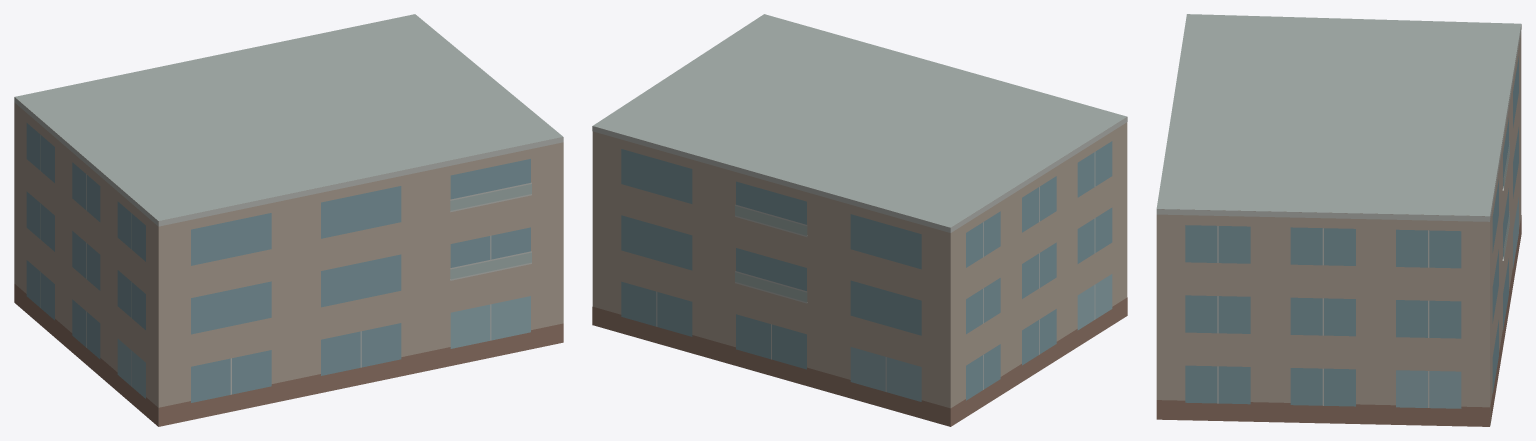
File: survey-upis-32591382.glb
3 renders of one model, left to right at view 1: azimuth 30°, elevation 25°; view 2: azimuth 150°, elevation 25°; view 3: azimuth 270°, elevation 25°, orthographic. The views are drawn at different scales.
Visible parts, largest first — view 1: survey-upis-32591382.tmp; view 2: survey-upis-32591382.tmp; view 3: survey-upis-32591382.tmp.
Boxes of the visible parts, left/top/right/bottom form: survey-upis-32591382.tmp: left=14, top=14, right=563, bottom=426; survey-upis-32591382.tmp: left=592, top=14, right=1127, bottom=426; survey-upis-32591382.tmp: left=1156, top=14, right=1521, bottom=426.
Size of the model in its own units: 18.85 by 9.15 by 14.37.
